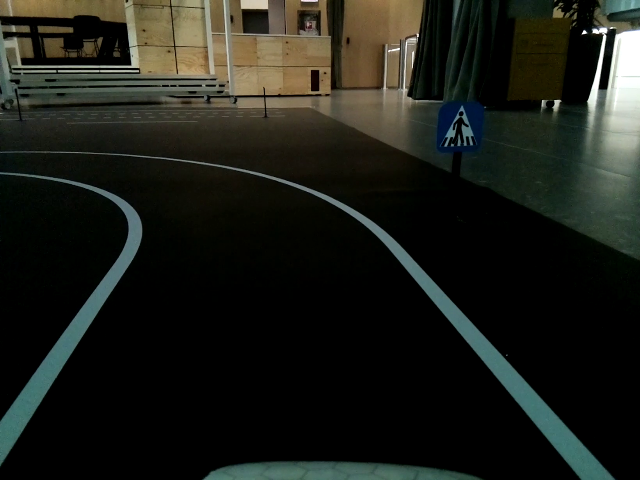pedestrians: (438, 103, 484, 153)
